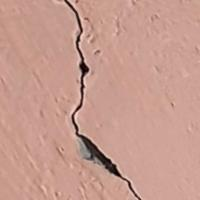crack: (61, 0, 151, 199)
